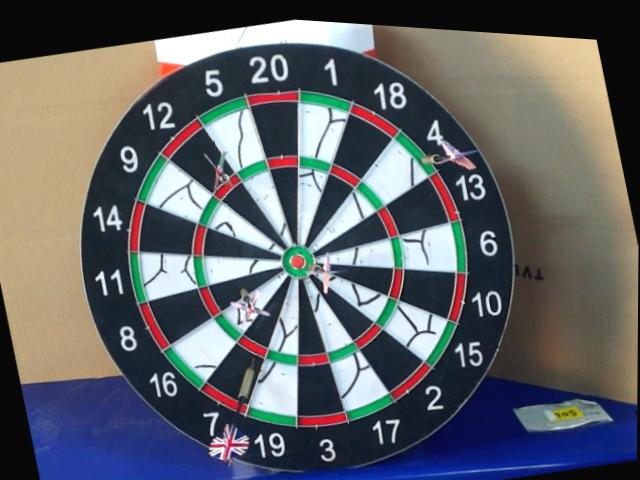bullseye: (282, 247, 314, 278)
double_4: (397, 132, 437, 175)
single_12: (173, 130, 232, 193)
single_8: (209, 267, 283, 307)
